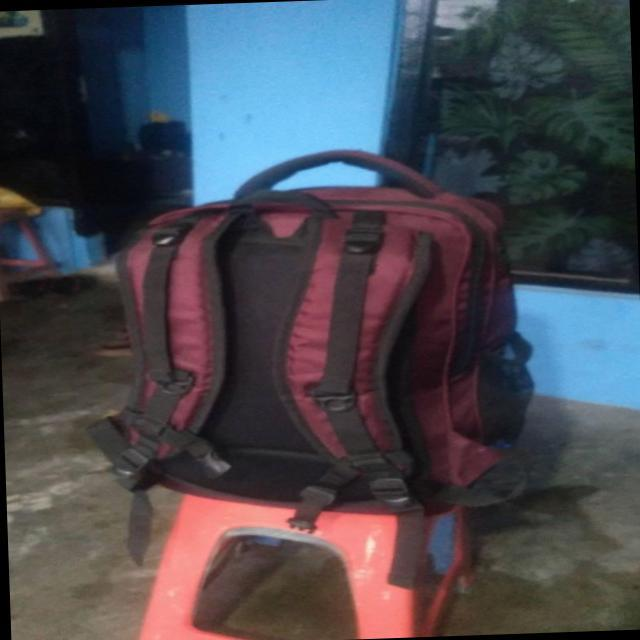bag: (127, 155, 518, 505)
